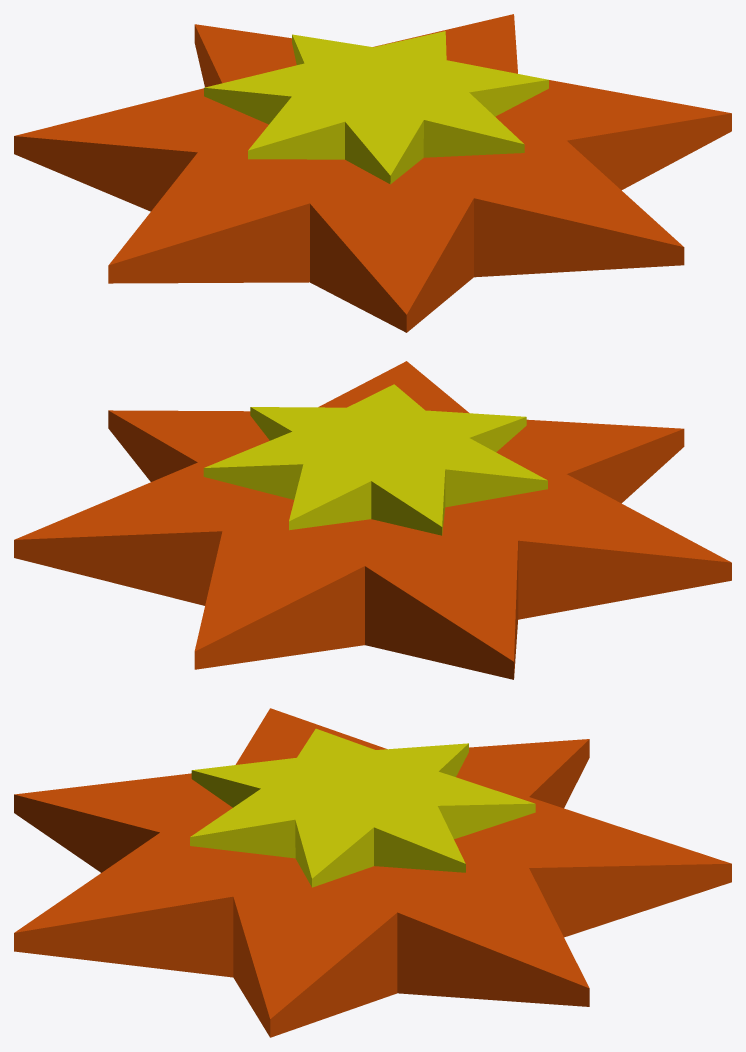
Rendered from explosionsymbol.fbx.
3 renders of one model, top to bottom at view 1: azimuth 30°, elevation 25°; view 2: azimuth 150°, elevation 25°; view 3: azimuth 270°, elevation 25°, orthographic. The views are drawn at different scales.
Parts seen in each view (by area): view 1: Cylinder; view 2: Cylinder; view 3: Cylinder.
Boxes of the visible parts, left/top/right/bottom form: Cylinder: left=14, top=14, right=731, bottom=332; Cylinder: left=14, top=361, right=731, bottom=679; Cylinder: left=14, top=708, right=731, bottom=1037.
Size of the model in its own units: 380 by 71.24 by 370.
